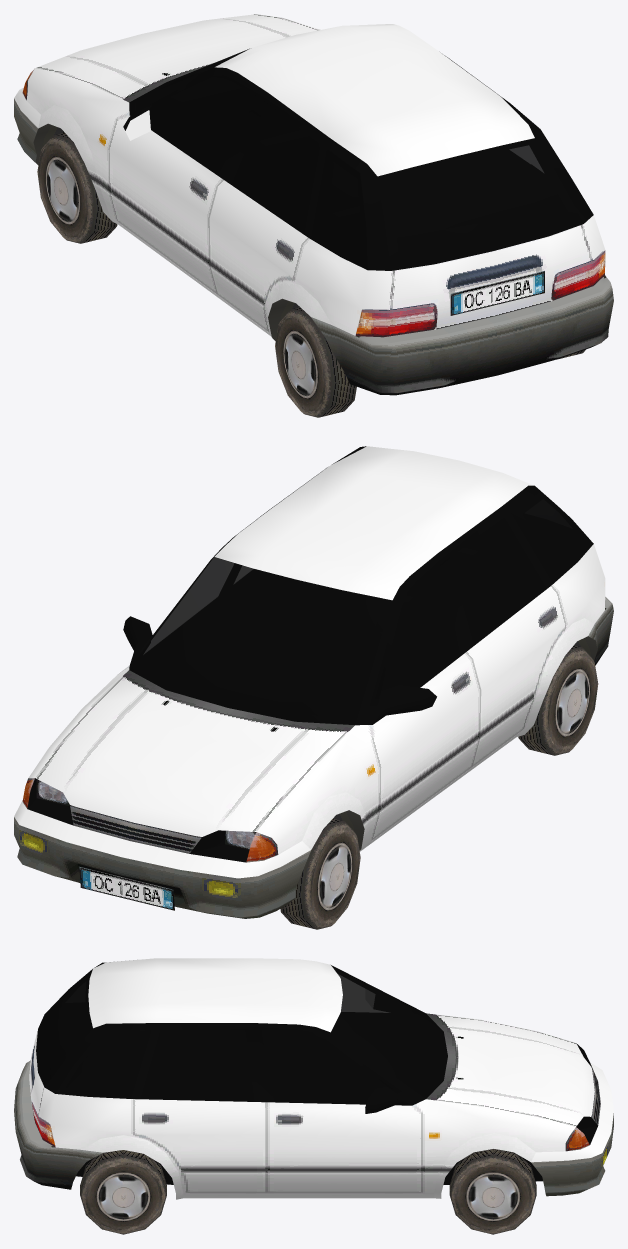
Rendered from othcar-01.glb.
3 renders of one model, top to bottom at view 1: azimuth 30°, elevation 25°; view 2: azimuth 150°, elevation 25°; view 3: azimuth 270°, elevation 25°, orthographic. The views are drawn at different scales.
Visible parts, largest first — view 1: body, wheel FL, wheel RL; view 2: body, wheel RL, wheel FL; view 3: body, wheel RR, wheel FR.
Part boxes in pixels (x1=…): body: x1=14, y1=14, x2=613, y2=395; wheel FL: x1=275, y1=307, x2=356, y2=417; wheel RL: x1=37, y1=132, x2=117, y2=243; body: x1=14, y1=446, x2=613, y2=918; wheel RL: x1=280, y1=818, x2=360, y2=929; wheel FL: x1=518, y1=645, x2=598, y2=755; body: x1=14, y1=958, x2=613, y2=1199; wheel RR: x1=449, y1=1149, x2=536, y2=1234; wheel FR: x1=80, y1=1150, x2=166, y2=1234.
Size of the model in its own units: 1.68 by 1.3 by 3.59.
9 materials, 5 textured.
